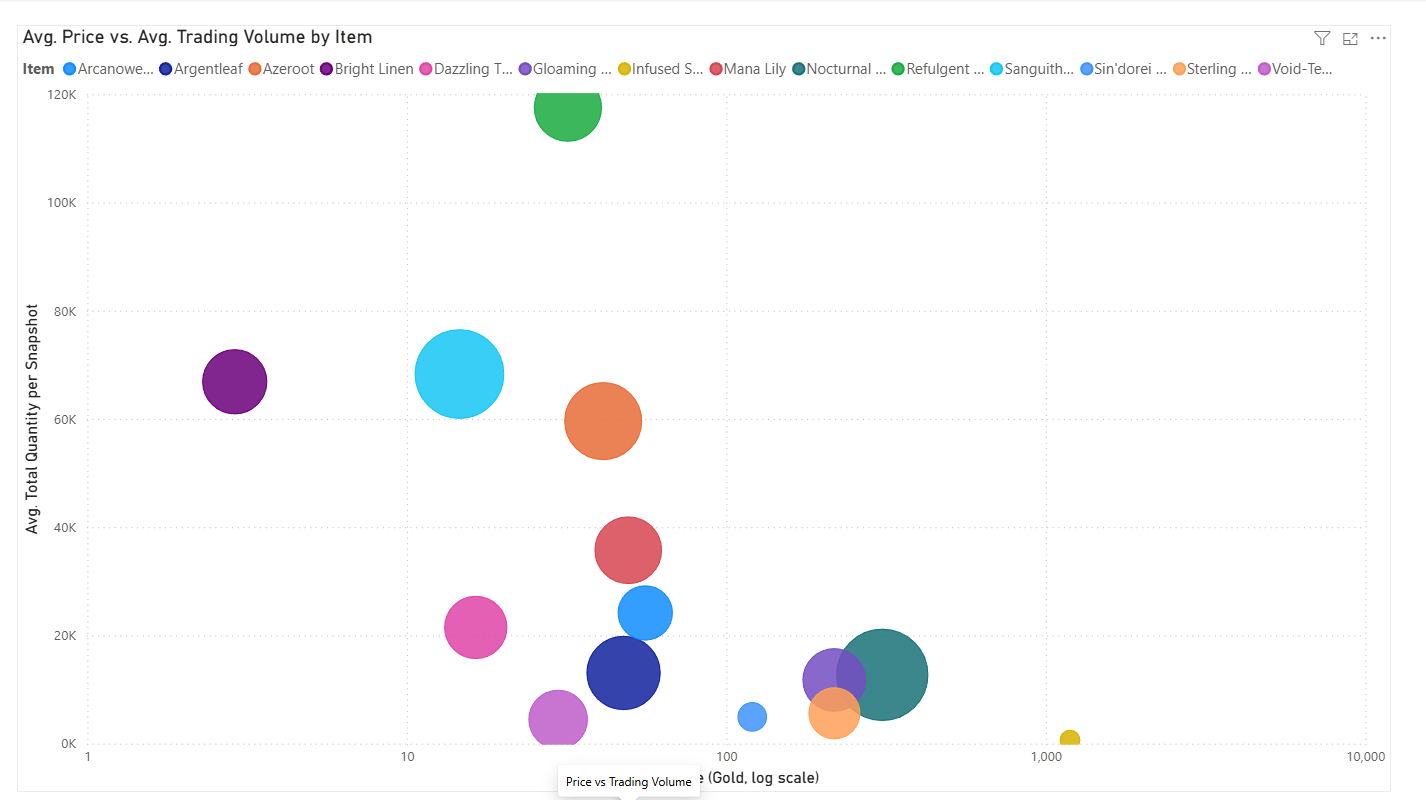

The dashboard page shown, as its layout file describes it:
{"tool":"powerbi","page":{"name":"Page 3","canvas":[1280,720],"ordinal":2},"visuals":[{"type":"scatterChart","title":"Price vs. Trading Volume by Item","fields":{"X":["Avg(public fct_item_snapshot.min_price_gold)"],"Y":["Avg(public fct_item_snapshot.total_quantity)"],"Size":["Avg(public fct_item_snapshot.listing_count)"],"Series":["public fct_item_snapshot.item_name"]},"box":[0,0,1217.8,711],"z":0}]}

Visuals, with their boxes on the page's 1280x720 design canvas (x1, y1, x2, y2). These are canvas units, not pixel positions in the 1426x800 screenshot, which may show the page scaled, cropped or inside an application window:
"Price vs. Trading Volume by Item" scatterChart: box=[0, 0, 1218, 711]
